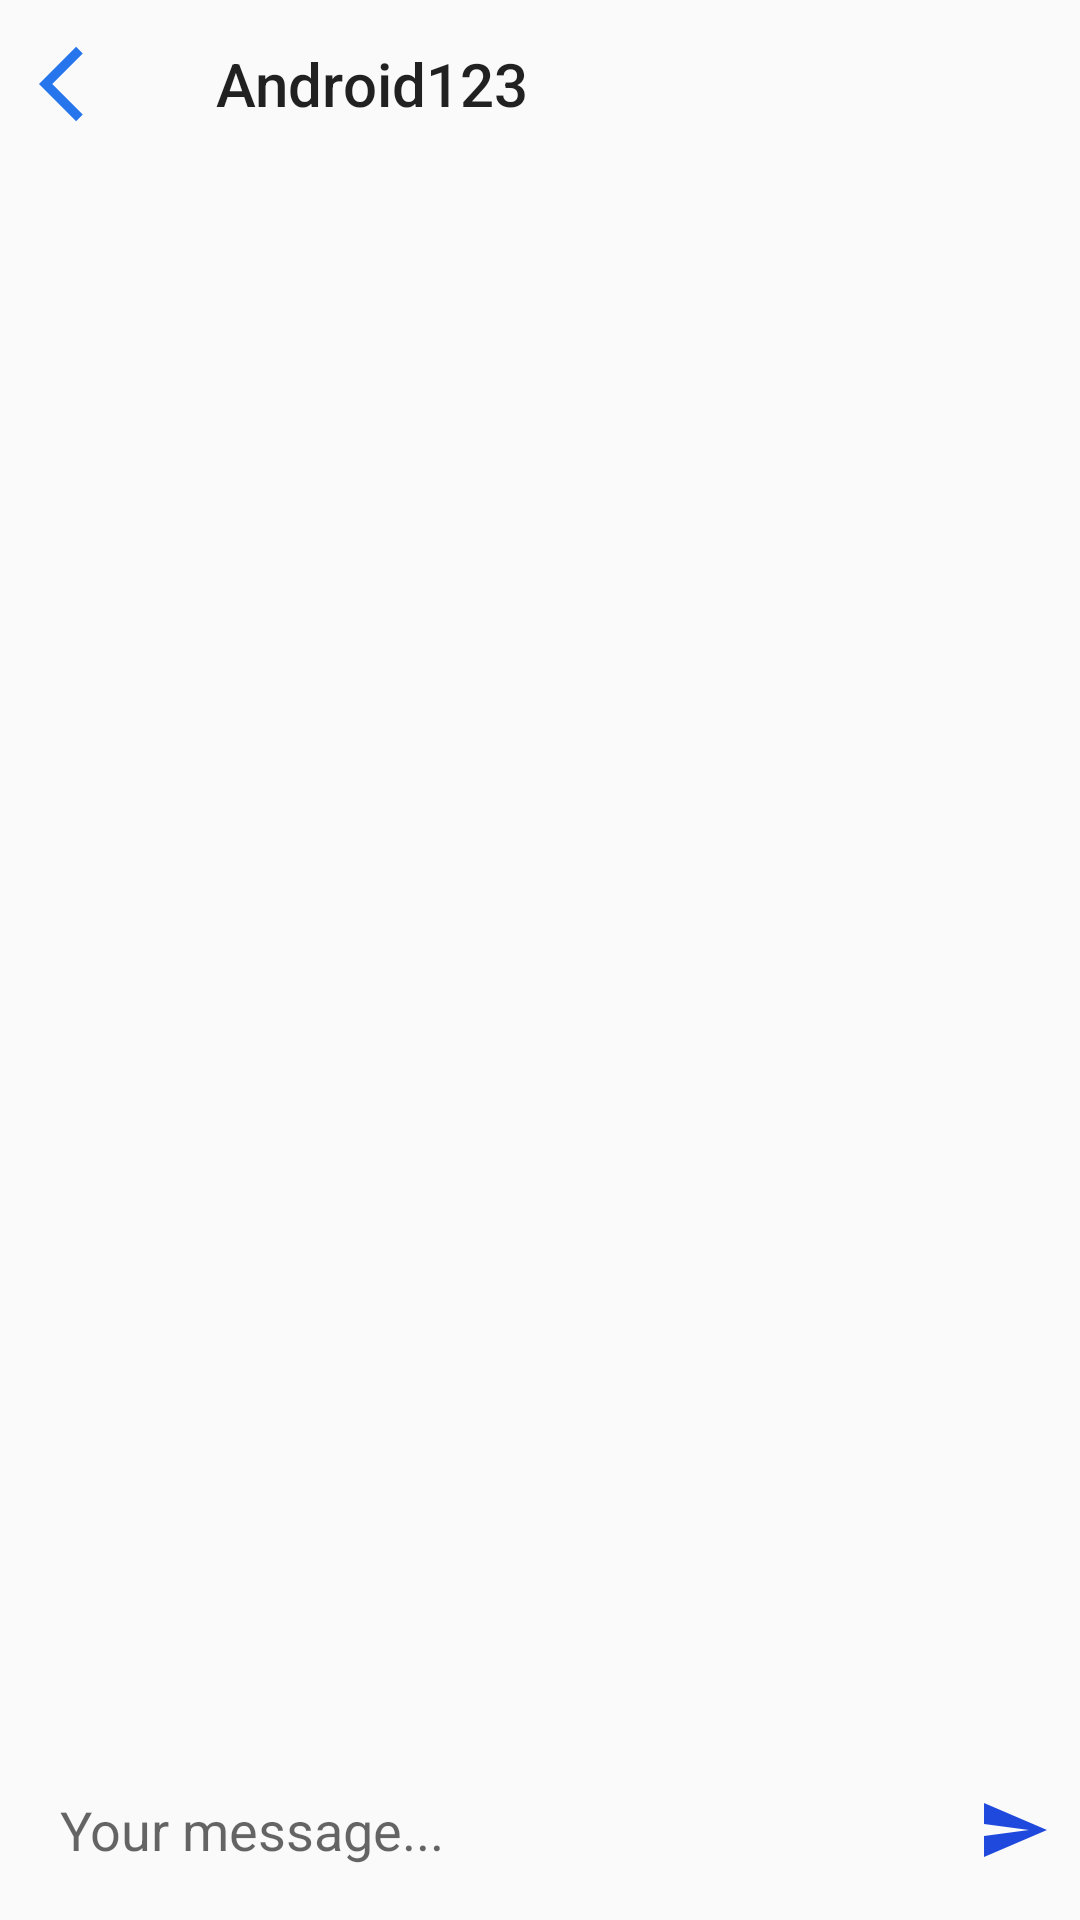

Icons on this 1080w x 1920h Android screen, each with the point to tap as (x=x, y=y):
send: (x=1015, y=1830)
